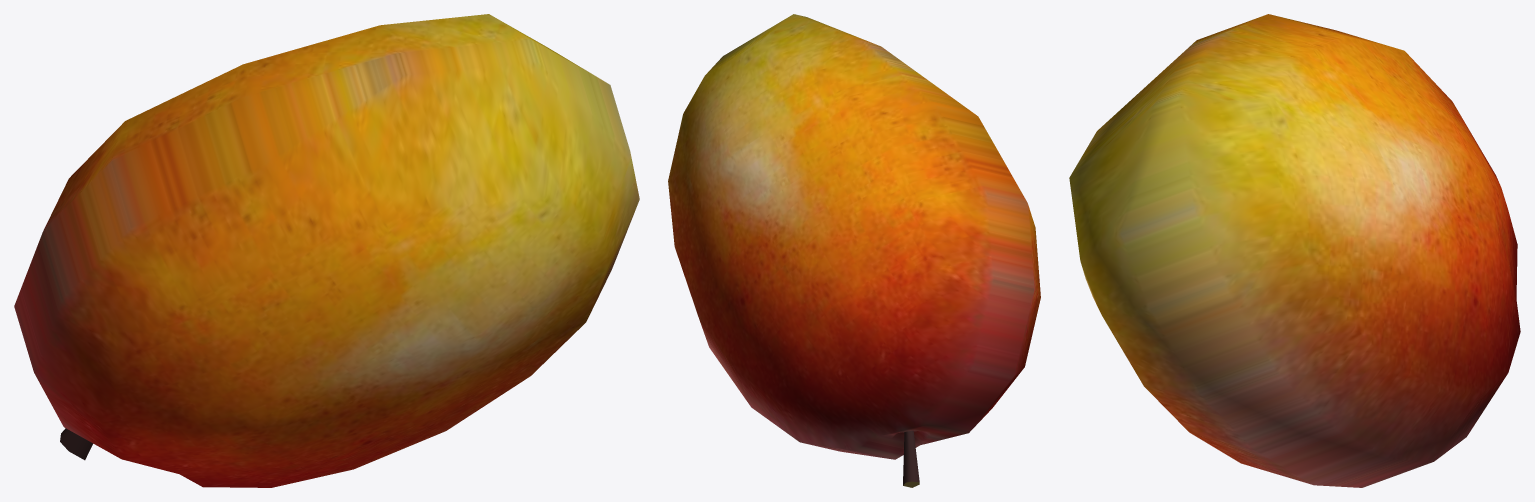
The model's file is mango.dae.
3 renders of one model, left to right at view 1: azimuth 30°, elevation 25°; view 2: azimuth 150°, elevation 25°; view 3: azimuth 270°, elevation 25°, orthographic. The views are drawn at different scales.
Visible parts, largest first — view 1: Component_44; view 2: Component_44 (×2); view 3: Component_44.
Boxes of the visible parts, left/top/right/bottom form: Component_44: left=14, top=14, right=639, bottom=487; Component_44 (×2): left=668, top=14, right=1040, bottom=485; Component_44: left=1069, top=14, right=1520, bottom=487.
Size of the model in its own units: 5.45 by 4.3 by 4.74.
3 materials, 1 textured.
